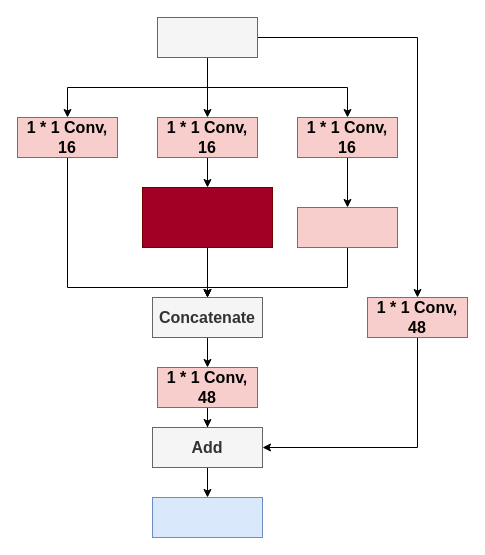
The diagram is 485 pixels wide and 555 high, and some of its shapes have lost their labels. Each missing label, with the box of its shape:
3 * 3 Conv, 8: (296, 206, 398, 248)
3 * 3 DepthwiseConv,: (142, 186, 272, 248)
Input: (156, 16, 258, 58)
ReLU: (152, 496, 262, 538)
